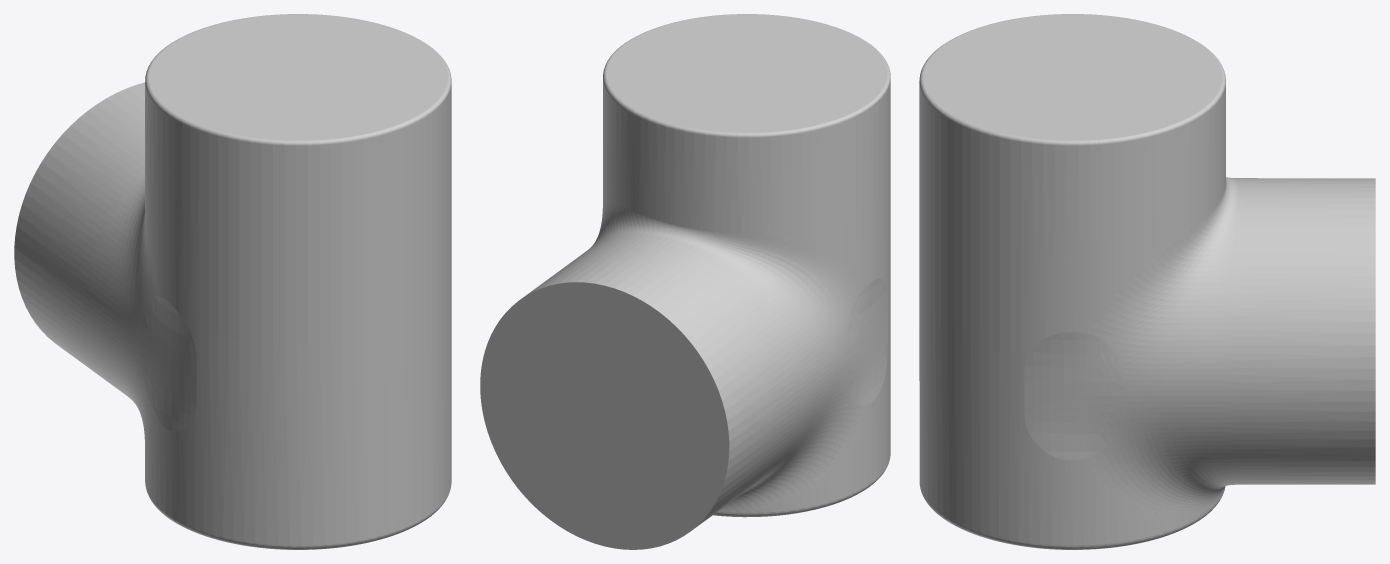
File: joint6.obj
3 views of the same model, side by side, from view 1: azimuth 30°, elevation 25°; view 2: azimuth 150°, elevation 25°; view 3: azimuth 270°, elevation 25° (orthographic). The views are drawn at different scales.
Parts seen in each view (by area): view 1: Link6_V1-mesh; view 2: Link6_V1-mesh; view 3: Link6_V1-mesh.
Boxes of the visible parts, x1=… form: Link6_V1-mesh: x1=14, y1=14, x2=451, y2=549; Link6_V1-mesh: x1=480, y1=14, x2=890, y2=549; Link6_V1-mesh: x1=919, y1=14, x2=1375, y2=549.
Bounding box in the file's own units: 0.0384 × 0.0567 × 0.0571.
1 material, 1 textured.
